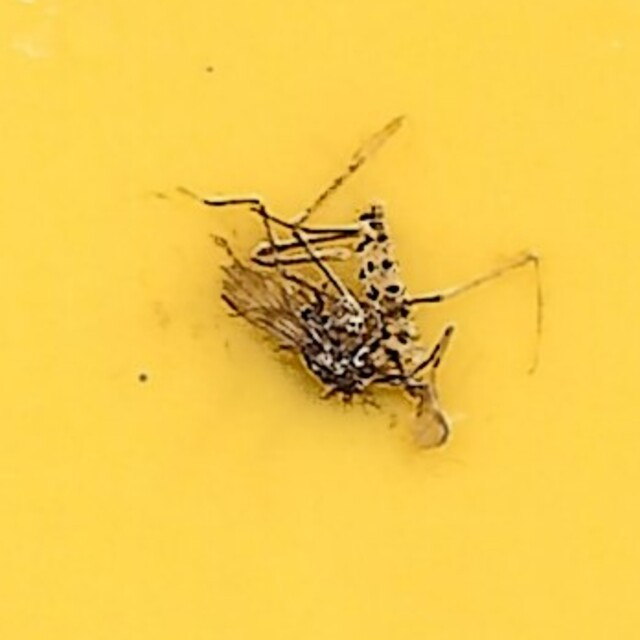Nematocera: (184, 186, 456, 454)
